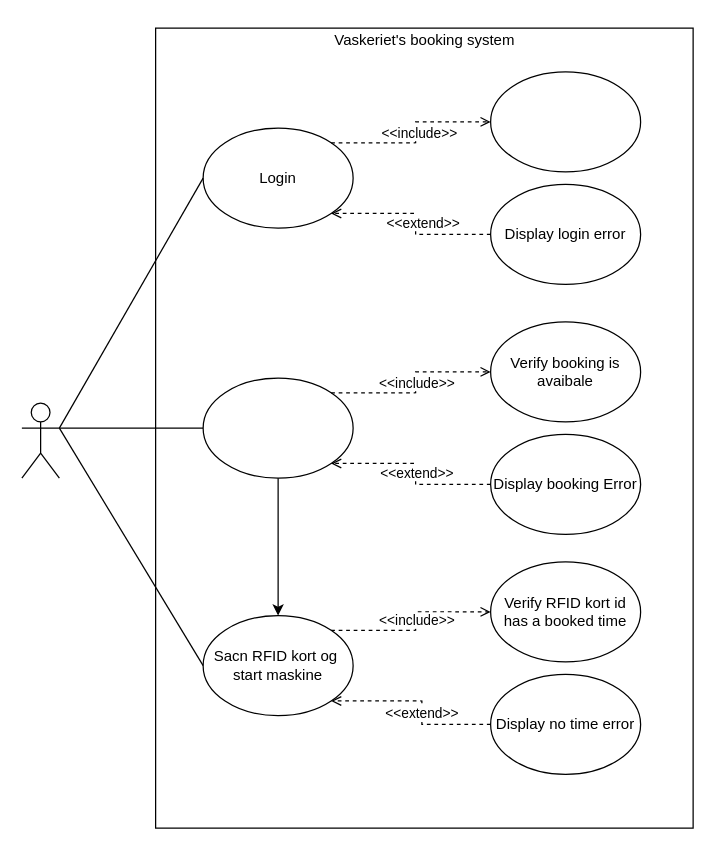
This 715x850 diagram has some shape labels left out. The shapes that lost their labels are listed below. From the top down, each one's box as (x1, y1, x2, y2) in pixels, then its label:
(489, 71, 641, 172): Verify password
(21, 402, 59, 478): User
(202, 377, 353, 478): Opret booking
